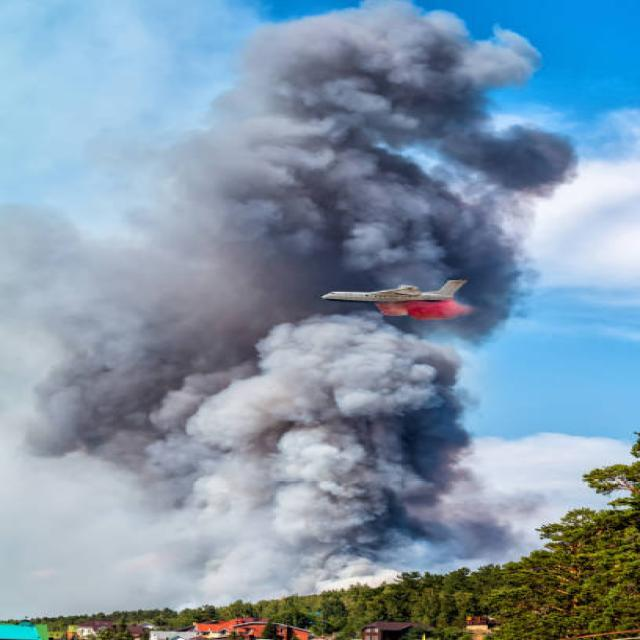Smoke: (0, 3, 582, 608)
